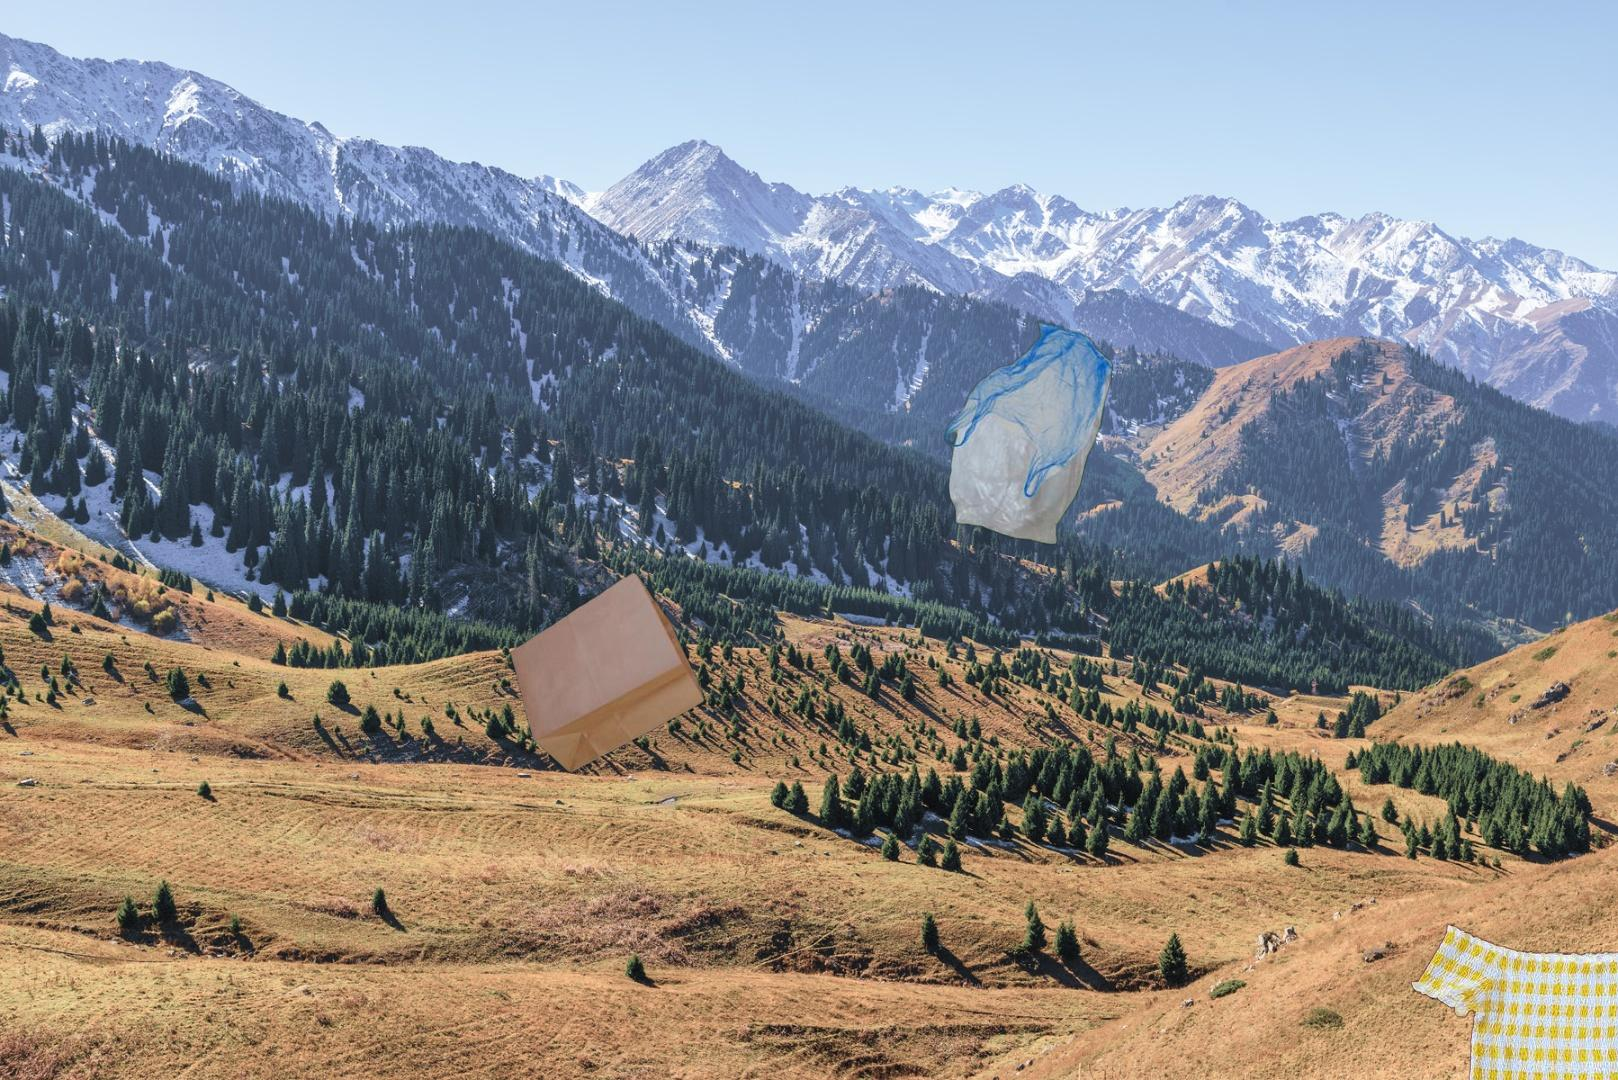clothes: (1408, 912, 1618, 1080)
paper-bag: (508, 570, 707, 774)
plastic-bag: (941, 318, 1114, 548)
